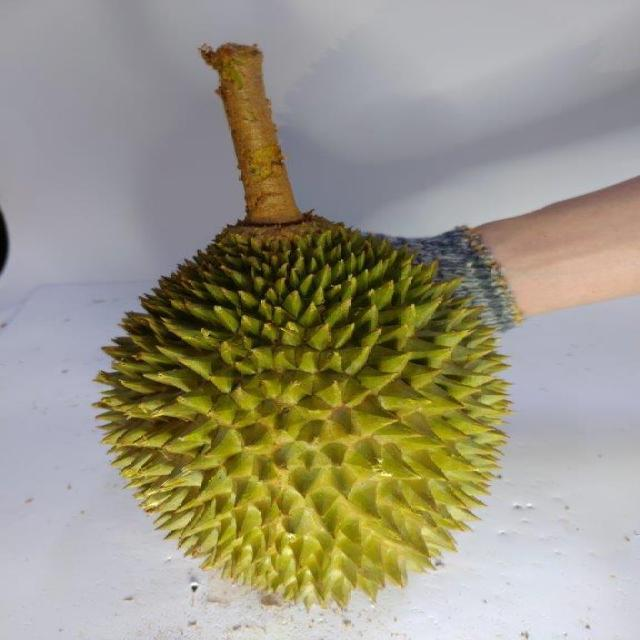immature: (97, 209, 513, 607)
